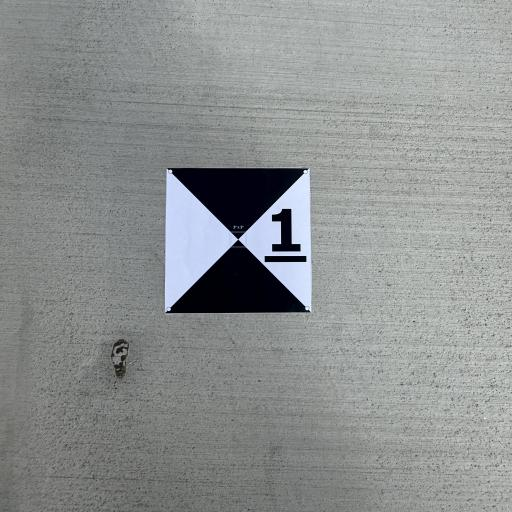target1: (160, 160, 317, 325)
